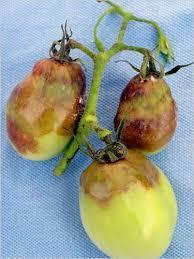tomato late blight: (8, 27, 90, 163), (81, 151, 179, 259), (114, 51, 179, 157)
